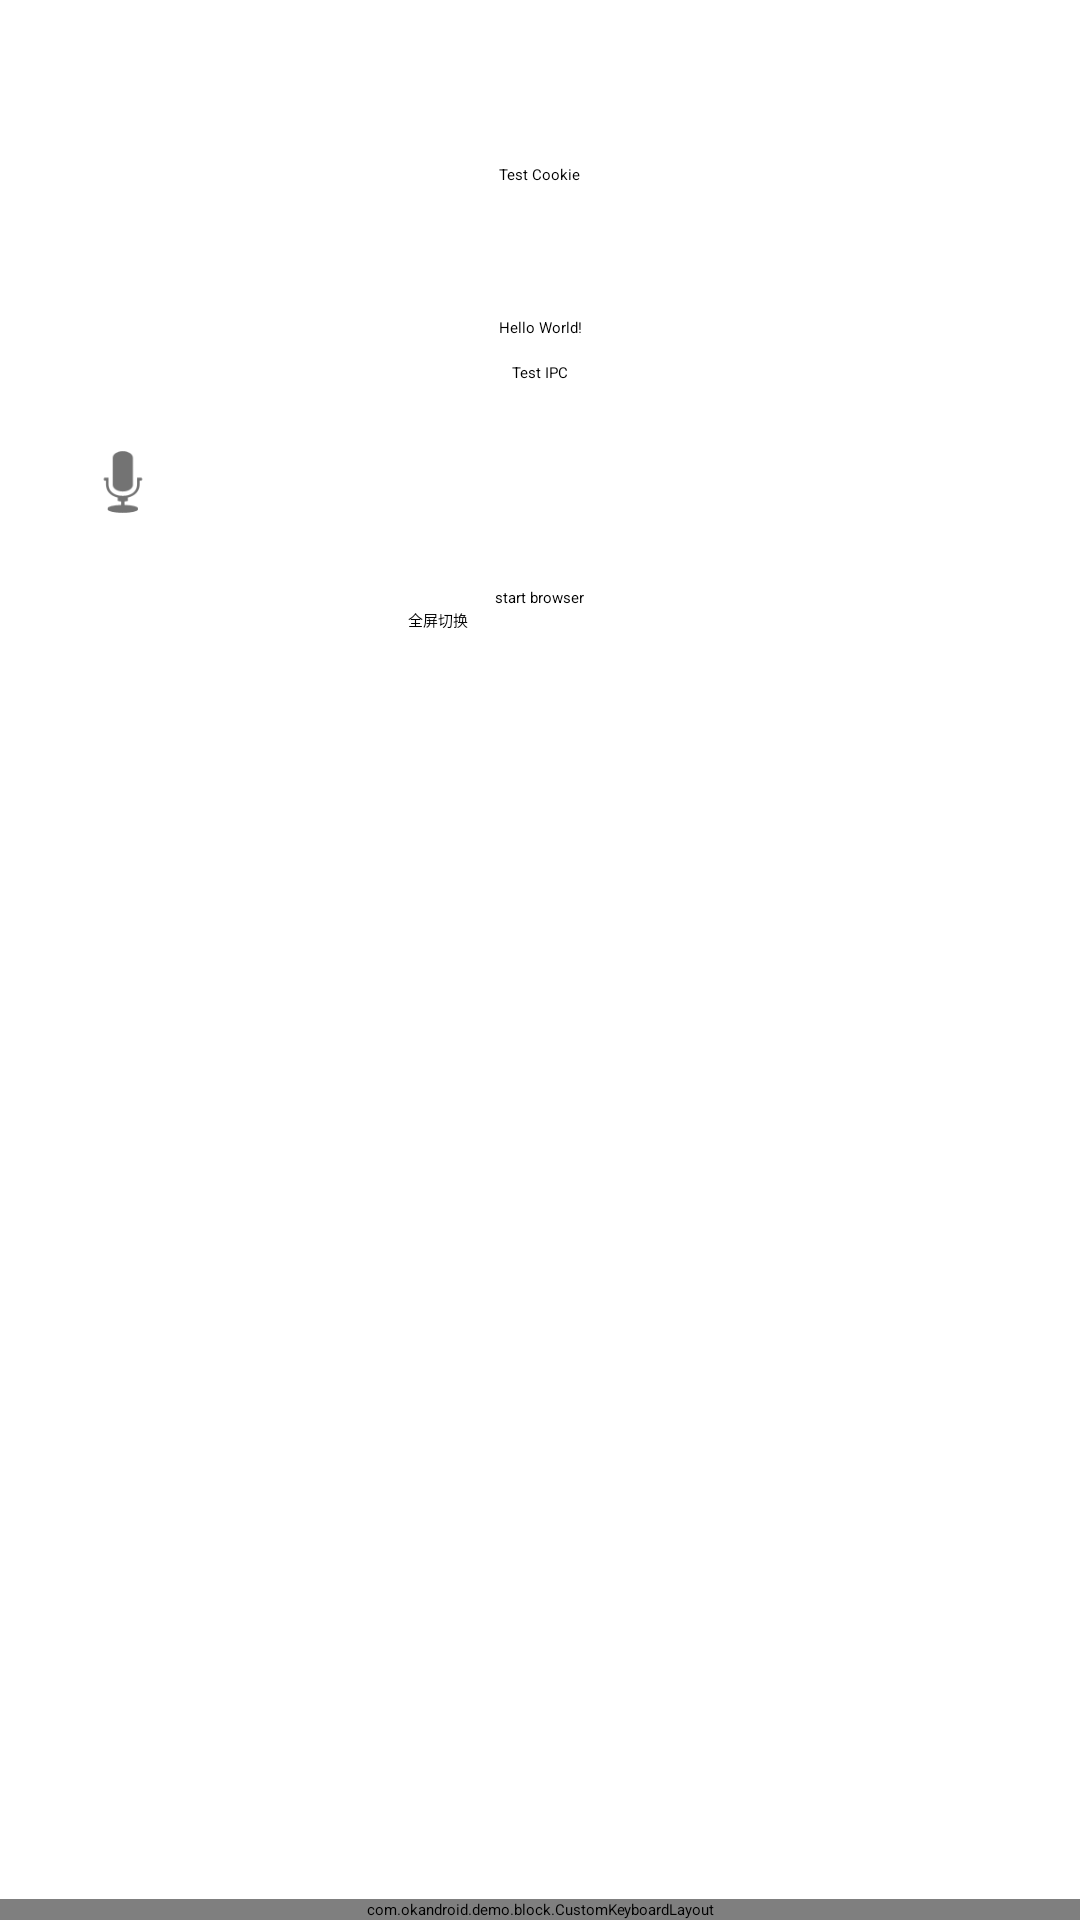

Icons on this 1080×1920 Android screen, each with its box as (x1, y1, x2, y2):
speak now: (103, 451, 143, 513)
